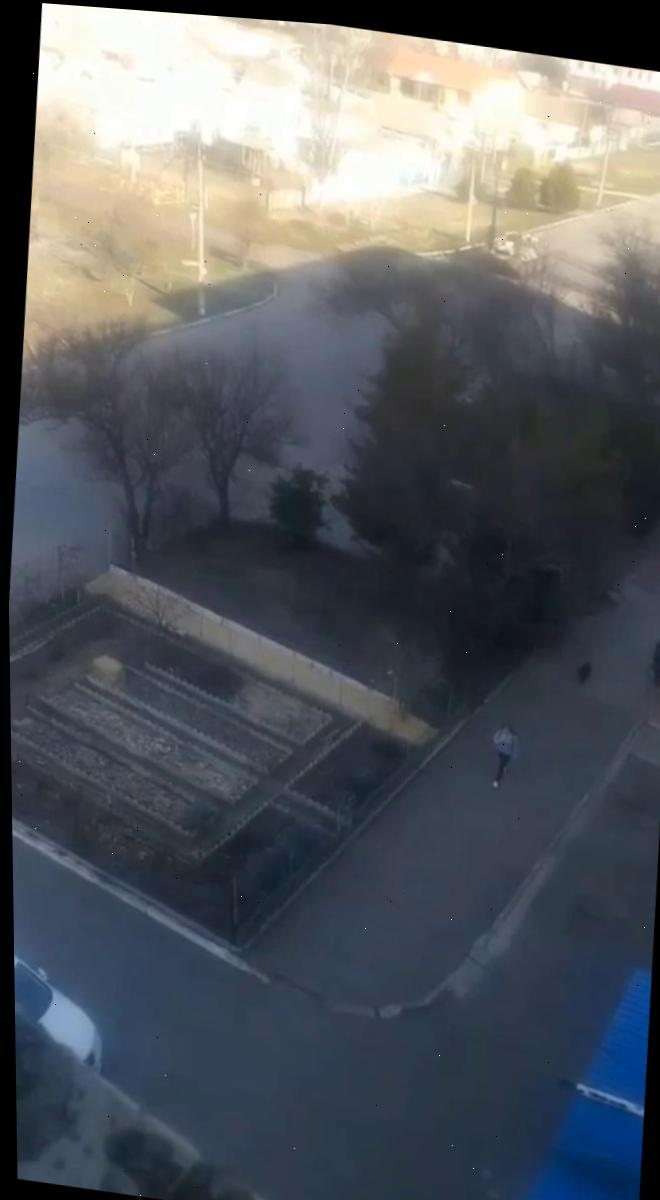person: (486, 719, 521, 792), (646, 630, 660, 687)
tank: (478, 220, 575, 288)
